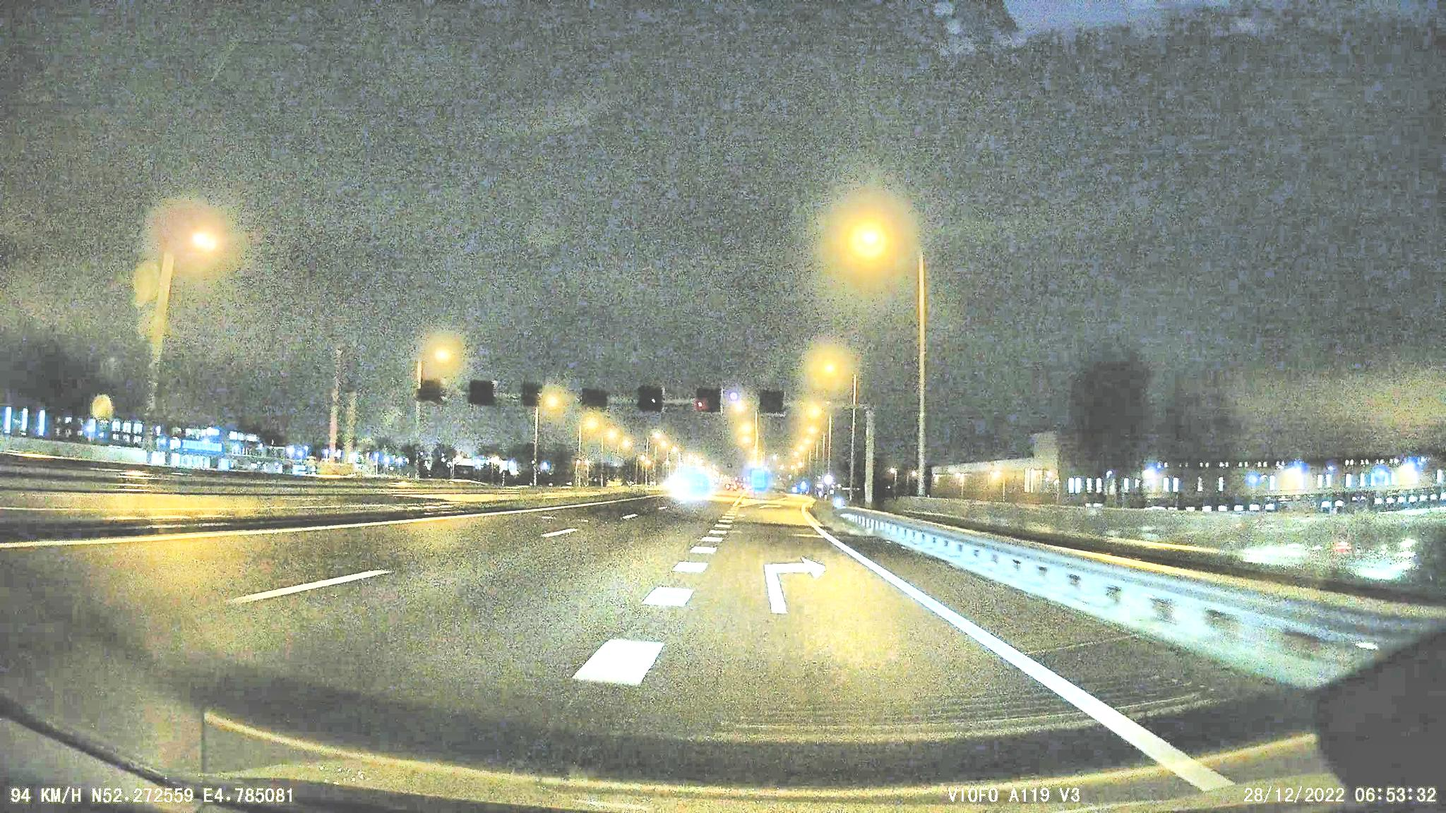Roads: (0, 495, 1339, 813)
